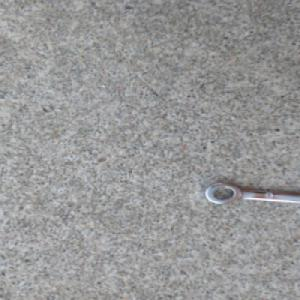Wrench: (201, 181, 300, 205)
